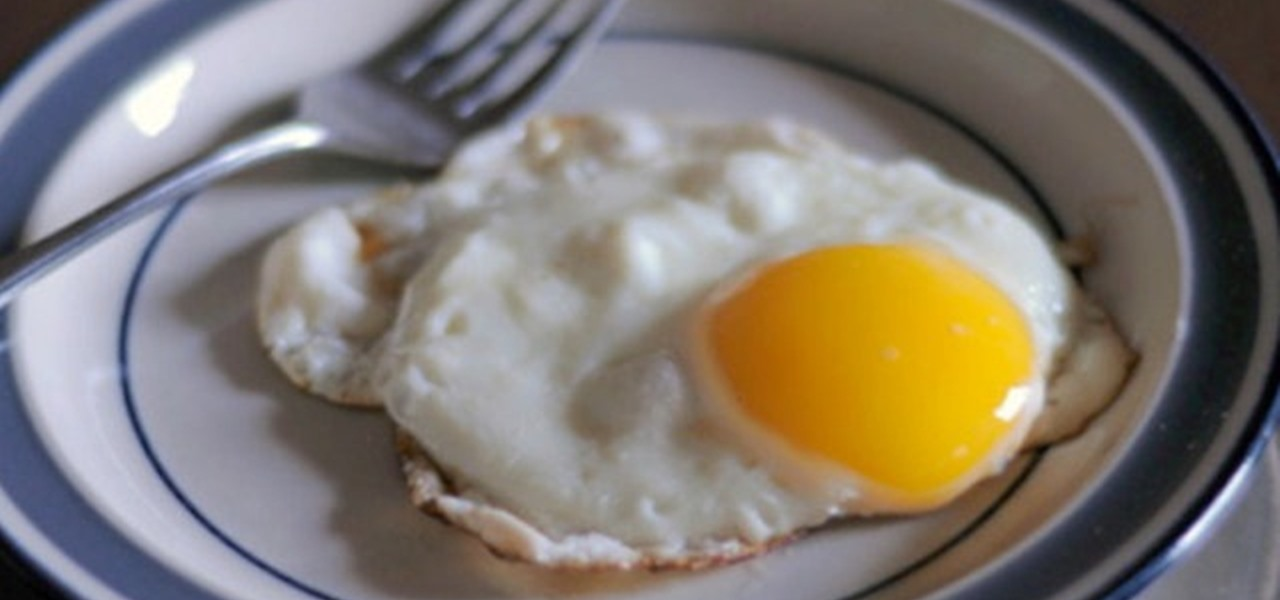fried egg: (381, 154, 1036, 483)
